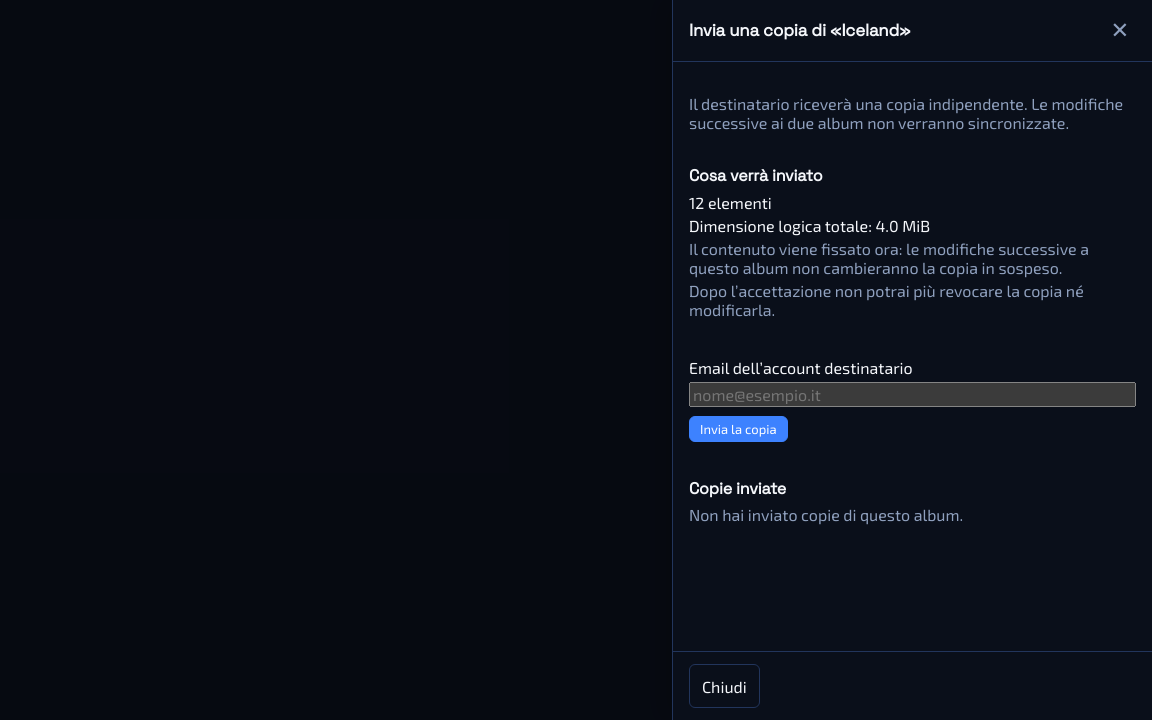
Test: sender panel › explains the recipient_not_found refusal
The width and height of the screenshot is (1152, 720).
Expected: the button with test id "album-copy-send" is shown, left=689, top=416, right=788, bottom=442
Type "x@example.com" into the field with test id "album-copy-email" at (912, 394), box left=689, top=382, right=1136, bottom=407
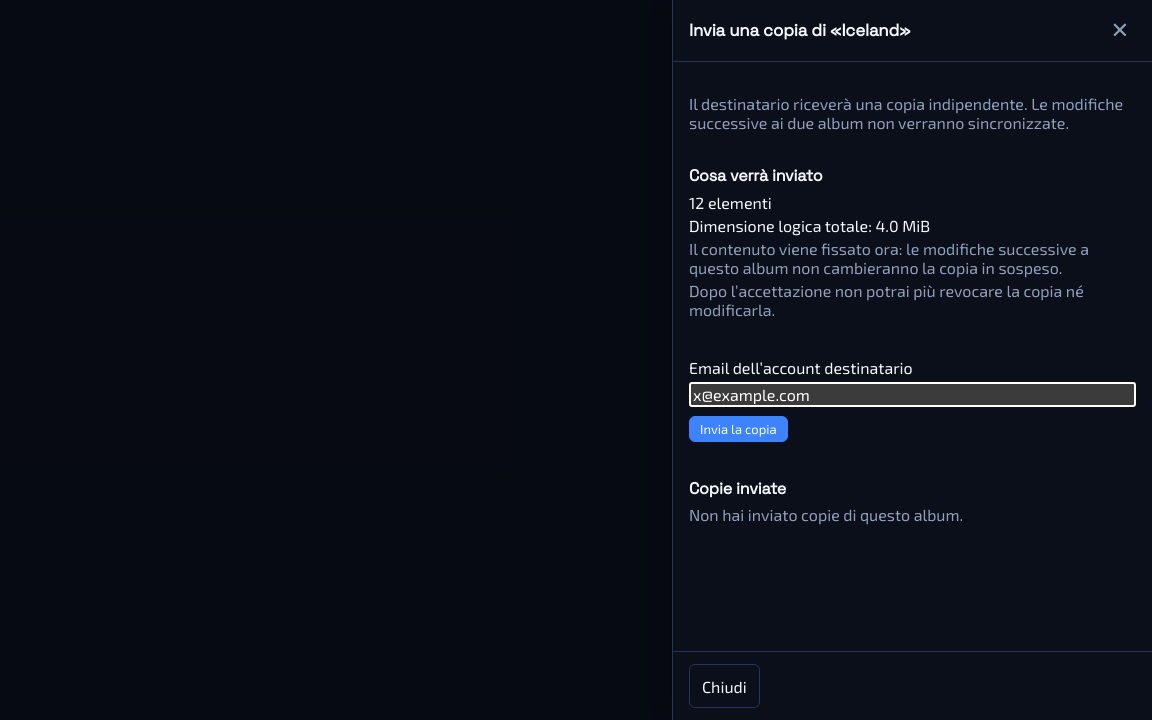
Click the button with test id "album-copy-send" at (738, 429), box left=689, top=416, right=788, bottom=442
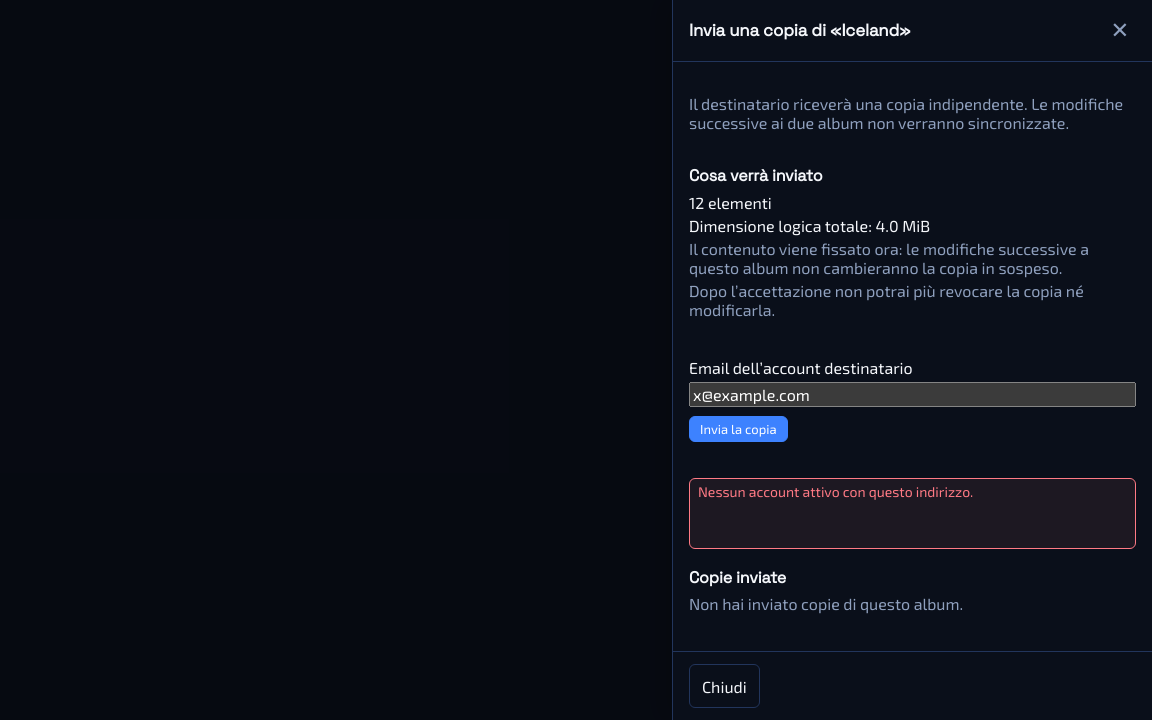
Expected: the message with test id "album-copy-error" shows "Nessun account attivo", left=698, top=483, right=973, bottom=500
